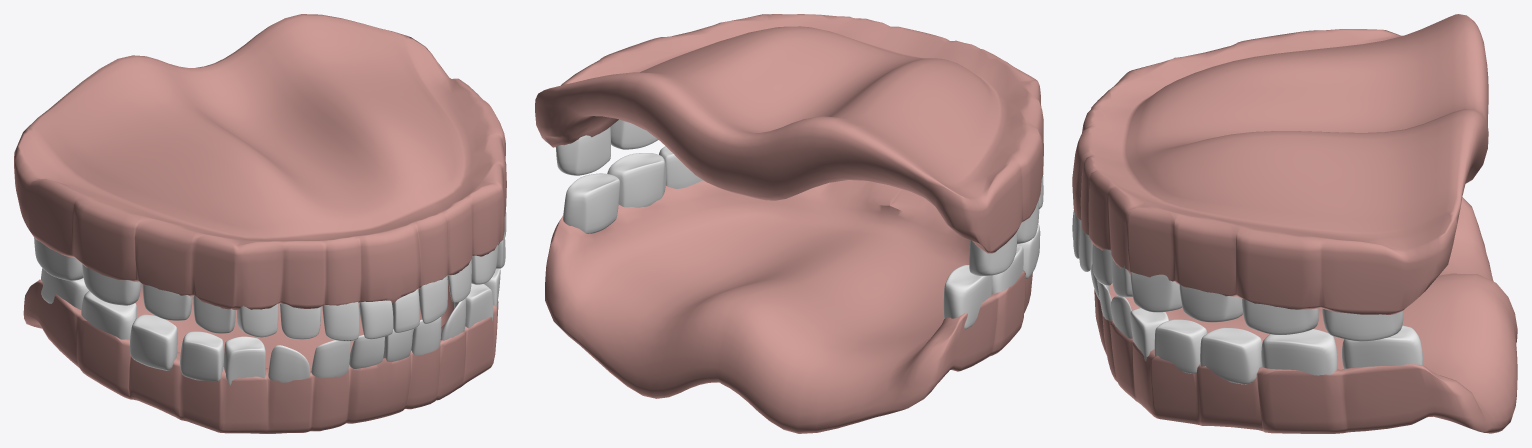
Rendered from mouth.fbx.
3 views of the same model, side by side, from view 1: azimuth 30°, elevation 25°; view 2: azimuth 150°, elevation 25°; view 3: azimuth 270°, elevation 25° (orthographic). The views are drawn at different scales.
Parts seen in each view (by area): view 1: base (×2), tooth12 (×2), tooth10 (×2), tooth14, tooth2 (×2), tooth4 (×2), tooth13, tooth1 (×2), tooth9 (×2), tooth11 (×2), tooth3 (×2), tooth15 (+5 smaller); view 2: base (×2), tooth8 (×2), tooth16 (×2), tooth7 (×2), tooth15 (×2), tooth6, tooth14; view 3: base (×2), tooth7, tooth6, tooth8, tooth5, tooth16, tooth15, tooth14, tooth13, tooth4, tooth11, tooth3 (+2 smaller).
Boxes of the visible parts, x1,y1,x2,y2 form: base (×2): [14, 14, 506, 433]; tooth12 (×2): [223, 242, 498, 385]; tooth10 (×2): [311, 275, 447, 378]; tooth14: [130, 314, 177, 370]; tooth2 (×2): [322, 302, 441, 355]; tooth4 (×2): [237, 283, 493, 337]; tooth13: [180, 331, 223, 382]; tooth1 (×2): [359, 300, 412, 361]; tooth9 (×2): [349, 289, 419, 368]; tooth11 (×2): [268, 259, 471, 382]; tooth3 (×2): [280, 298, 465, 340]; tooth15: [81, 291, 136, 339]; base (×2): [535, 14, 1043, 433]; tooth8 (×2): [563, 173, 1016, 276]; tooth16 (×2): [556, 127, 992, 329]; tooth7 (×2): [607, 153, 1038, 244]; tooth15 (×2): [610, 119, 1023, 294]; tooth6: [659, 146, 702, 188]; tooth14: [1017, 224, 1040, 278]; base (×2): [1072, 14, 1517, 433]; tooth7: [1261, 329, 1337, 375]; tooth6: [1200, 327, 1262, 384]; tooth8: [1342, 325, 1422, 368]; tooth5: [1154, 319, 1207, 373]; tooth16: [1322, 308, 1403, 341]; tooth15: [1242, 298, 1318, 334]; tooth14: [1179, 284, 1242, 322]; tooth13: [1130, 272, 1182, 312]; tooth4: [1130, 308, 1169, 361]; tooth11: [1092, 244, 1112, 286]; tooth3: [1111, 296, 1132, 338].
Size of the model in its own units: 9.36 by 6.18 by 7.85.
